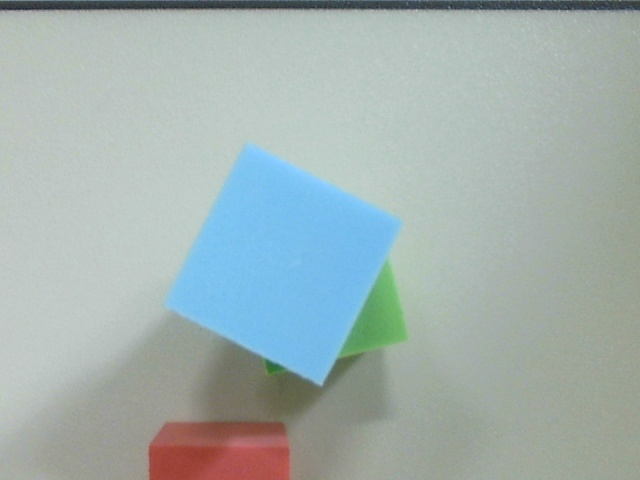greencube: (240, 227, 417, 378)
